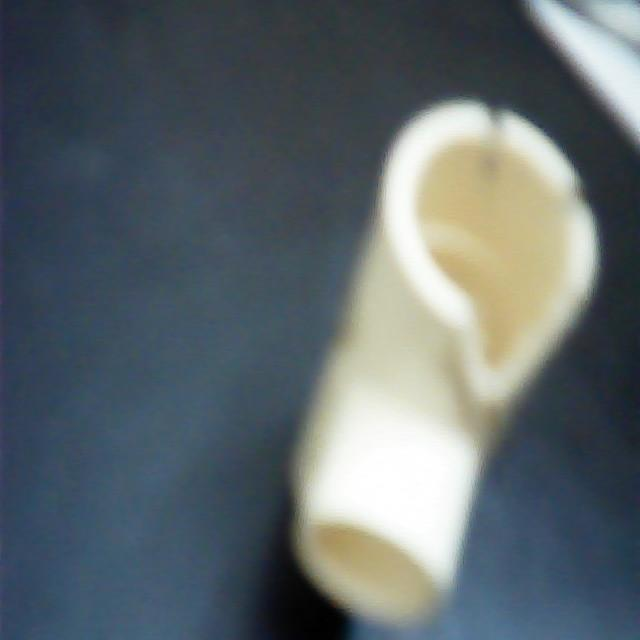Defective: (440, 264, 561, 410), (466, 101, 598, 224)
